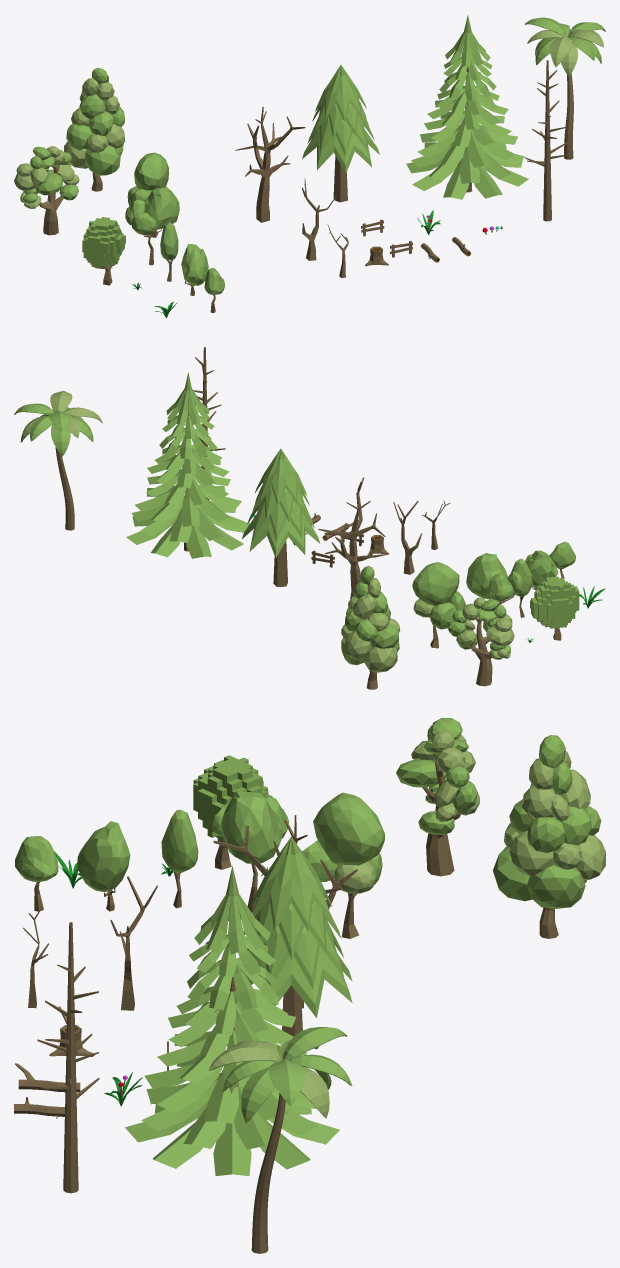
Rendered from LOW_POLY_TREE_ENVIRMENT.fbx.
3 views of the same model, one above another, from view 1: azimuth 30°, elevation 25°; view 2: azimuth 150°, elevation 25°; view 3: azimuth 270°, elevation 25° (orthographic). The views are drawn at different scales.
Parts seen in each view (by area): view 1: OAK TREE.001, OAK TREE, TRESS.003, TRESS.006, COCO NUT TREE, TRESS.004, Vert.001, TREE W/O LEAFS, TRESS, TREE W/O LEAFS.001, TRESS.005, TRESS.002 (+2 smaller); view 2: OAK TREE.001, OAK TREE, TRESS.003, TRESS.006, COCO NUT TREE, TRESS, Vert.001, TRESS.004, TREE W/O LEAFS, TRESS.005, TREE W/O LEAFS.003, TRESS.001 (+2 smaller); view 3: OAK TREE.001, TRESS.003, OAK TREE, COCO NUT TREE, TRESS.006, TRESS, TRESS.004, TREE W/O LEAFS.001, Vert.001, TRESS.005, TRESS.002, TRESS.001 (+2 smaller).
Boxes of the visible parts, x1,y1,x2,y2 form: OAK TREE.001: (406,15,528,199); OAK TREE: (302,65,379,202); TRESS.003: (64,68,125,191); TRESS.006: (14,146,79,235); COCO NUT TREE: (524,17,605,159); TRESS.004: (125,187,179,265); Vert.001: (82,217,125,285); TREE W/O LEAFS: (235,107,305,222); TRESS: (127,152,168,237); TREE W/O LEAFS.001: (524,60,570,221); TRESS.005: (181,244,208,295); TRESS.002: (160,222,178,281); OAK TREE.001: (126,372,250,558); OAK TREE: (241,448,320,586); TRESS.003: (341,566,400,689); TRESS.006: (448,597,514,686); COCO NUT TREE: (14,390,102,530); TRESS: (412,562,465,648); Vert.001: (530,576,579,640); TRESS.004: (466,553,524,605); TREE W/O LEAFS: (318,477,386,599); TRESS.005: (525,550,558,589); TREE W/O LEAFS.003: (393,501,422,574); TRESS.001: (549,541,575,579); OAK TREE.001: (125,865,339,1175); TRESS.003: (493,735,605,938); OAK TREE: (239,837,352,1045); COCO NUT TREE: (209,1027,352,1253); TRESS.006: (396,718,479,876); TRESS: (302,792,384,938); TRESS.004: (212,791,288,912); TREE W/O LEAFS.001: (37,922,99,1193); Vert.001: (193,755,272,869); TRESS.005: (77,821,130,911); TRESS.002: (161,809,198,908); TRESS.001: (15,836,58,911).
Bounding box in the file's own units: 21730 × 7060 × 12234.
